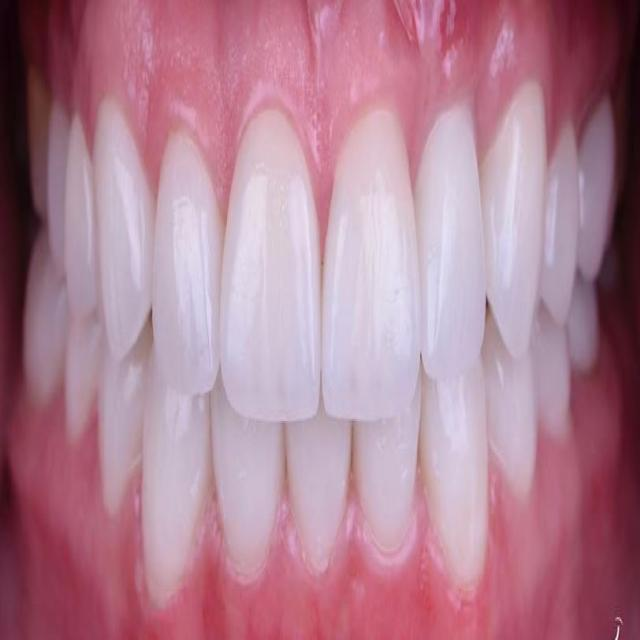1st Molar: (24, 232, 65, 396), (570, 276, 600, 378), (28, 74, 47, 215)
1st Premolar: (485, 323, 537, 504), (99, 327, 149, 514), (542, 125, 579, 321), (64, 117, 97, 310)
2nd Premolar: (578, 98, 618, 279), (63, 310, 103, 444), (535, 325, 571, 444), (47, 100, 69, 257)
Canine: (140, 344, 211, 610), (483, 83, 547, 362), (95, 98, 155, 359), (421, 372, 487, 597)
Central Incisor: (218, 108, 322, 425), (321, 109, 420, 421), (285, 419, 352, 572)
Lateral Incisor: (415, 100, 486, 385), (152, 130, 223, 398), (209, 387, 283, 570), (353, 421, 419, 553)
